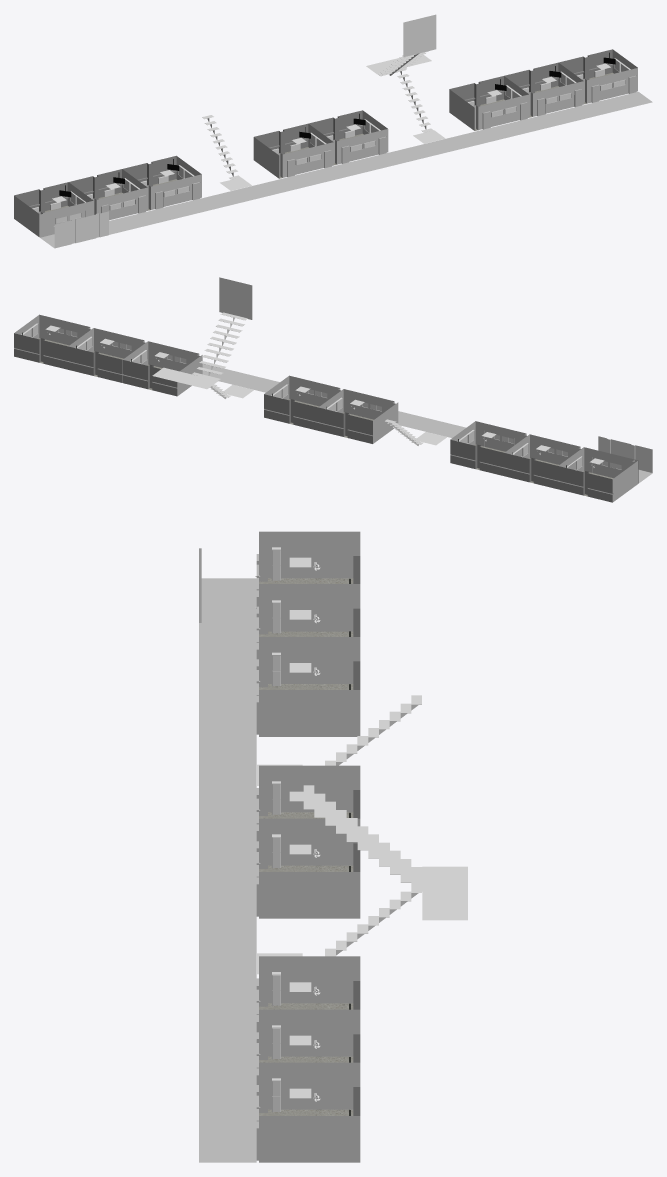
Rendered from tpcksldRj.FBX.
3 renders of one model, top to bottom at view 1: azimuth 30°, elevation 25°; view 2: azimuth 150°, elevation 25°; view 3: azimuth 270°, elevation 25°, orthographic. The views are drawn at different scales.
Parts seen in each view (by area): view 1: Object001, Box001, Object039, Object045, Object051, Object027, Object033, Object057, Object021, Object034, Object064, Object052 (+26 smaller); view 2: Object008, Object040, Object058, Object034, Object052, Object028, Object022, Box001, Object046, StraightStair004, Object001, Object039 (+17 smaller); view 3: Object009, Object053, Object035, Object059, Object029, Object041, Object023, Object047, Object064, Object019, Object062, Object014 (+11 smaller).
Part boxes in pixels (box(x1,y1,x2,y2)): Object001: box(54, 211, 108, 248); Box001: box(403, 14, 436, 57); Object039: box(331, 129, 388, 164); Object045: box(473, 94, 529, 130); Object051: box(527, 81, 583, 116); Object027: box(146, 174, 201, 209); Object033: box(277, 142, 333, 177); Object057: box(581, 68, 637, 103); Object021: box(91, 187, 147, 220); Object034: box(254, 123, 308, 154); Object064: box(580, 92, 652, 116); Object052: box(504, 62, 558, 93); Object008: box(558, 466, 613, 502); Object040: box(264, 394, 318, 430); Object058: box(14, 333, 68, 369); Object034: box(318, 407, 372, 443); Object052: box(68, 346, 122, 382); Object028: box(450, 439, 504, 475); Object022: box(504, 453, 558, 489); Box001: box(219, 277, 252, 319); Object046: box(123, 360, 177, 396); StraightStair004: box(197, 312, 247, 380); Object001: box(598, 436, 652, 472); Object039: box(289, 375, 340, 406); Object009: box(259, 531, 360, 631); Object053: box(259, 1009, 360, 1109); Object035: box(259, 765, 360, 865); Object059: box(259, 1062, 360, 1162); Object029: box(259, 637, 360, 736); Object041: box(259, 872, 360, 918); Object023: box(259, 584, 360, 683); Object047: box(259, 956, 360, 1003); Object064: box(199, 1105, 256, 1162); Object019: box(199, 947, 256, 1000); Object062: box(199, 1000, 256, 1053); Object014: box(199, 683, 256, 736).
Bounding box in the file's own units: 9011 × 1719 × 1752.
